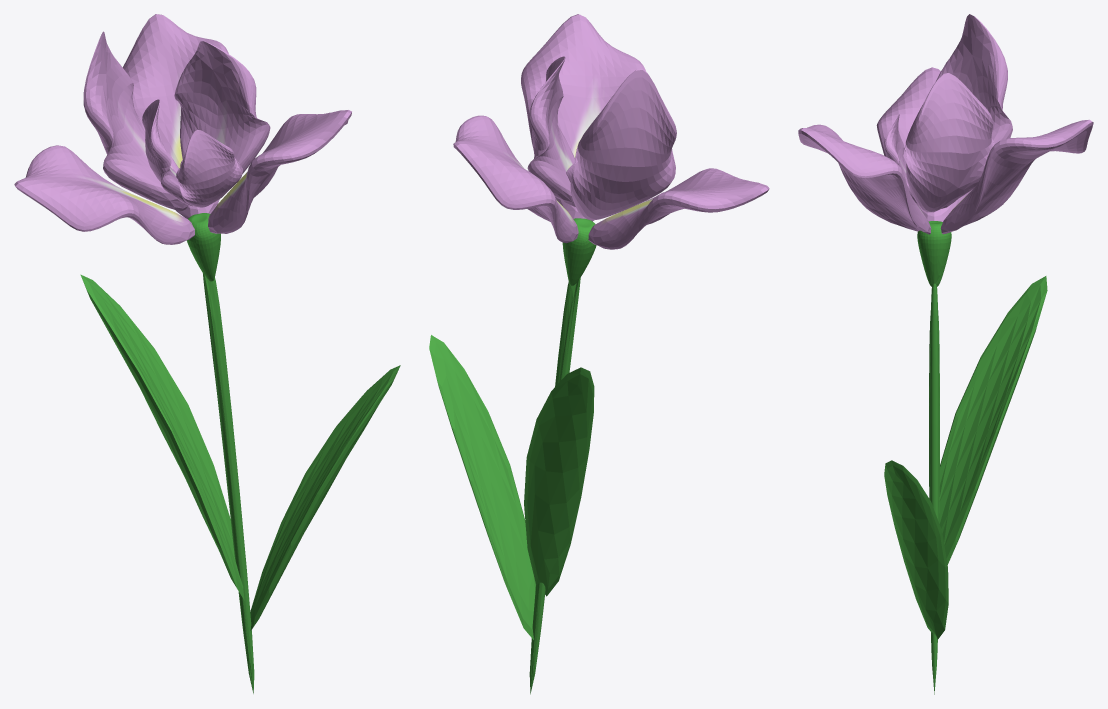
File: Guilt_Iris.glb
3 renders of one model, left to right at view 1: azimuth 30°, elevation 25°; view 2: azimuth 150°, elevation 25°; view 3: azimuth 270°, elevation 25°, orthographic. The views are drawn at different scales.
Visible parts, largest first — view 1: Cube.007; view 2: Cube.007; view 3: Cube.007.
Part boxes in pixels (left/top/right/bottom): Cube.007: left=14, top=14, right=400, bottom=693; Cube.007: left=429, top=14, right=769, bottom=694; Cube.007: left=798, top=14, right=1093, bottom=694.
Bounding box in the file's own units: 10.02 × 17.92 × 7.72.
2 materials, 1 textured.
